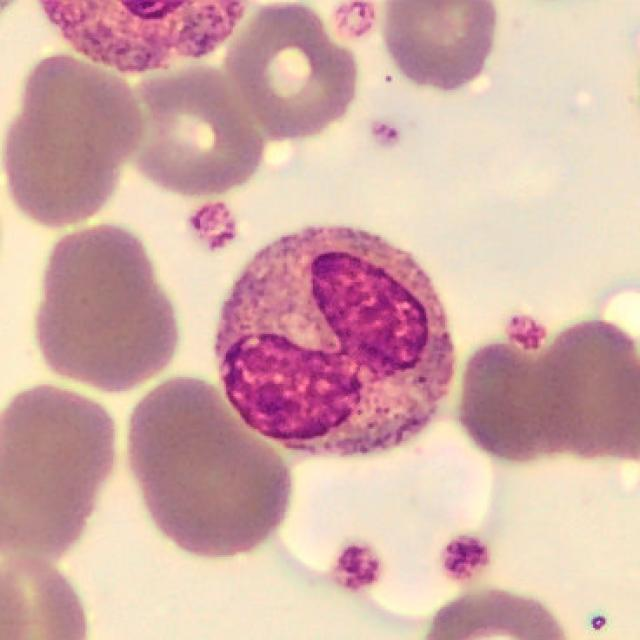Bastonete: (216, 227, 454, 457)
